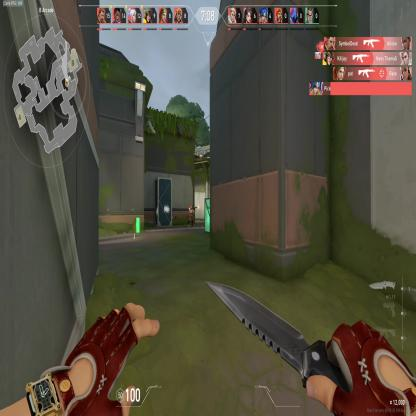enemy: (187, 204, 194, 226)
